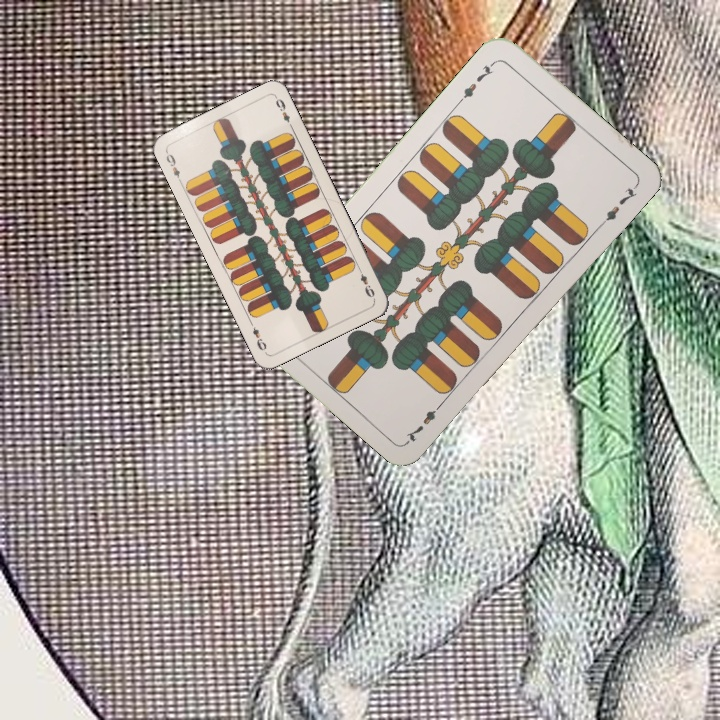E7: (402, 397, 447, 445), (455, 57, 498, 106)
E9: (354, 263, 377, 301), (162, 147, 185, 185)
